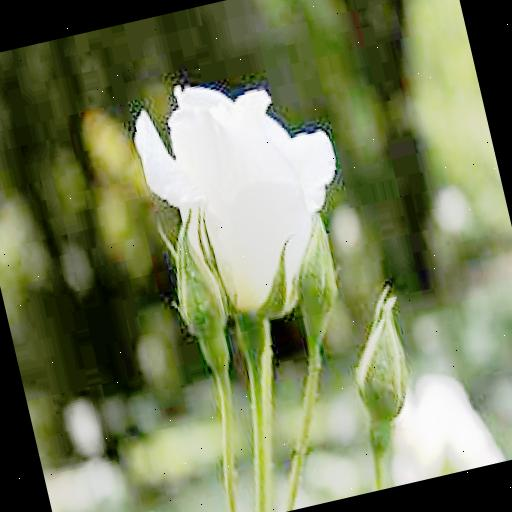rose: (124, 57, 364, 330)
